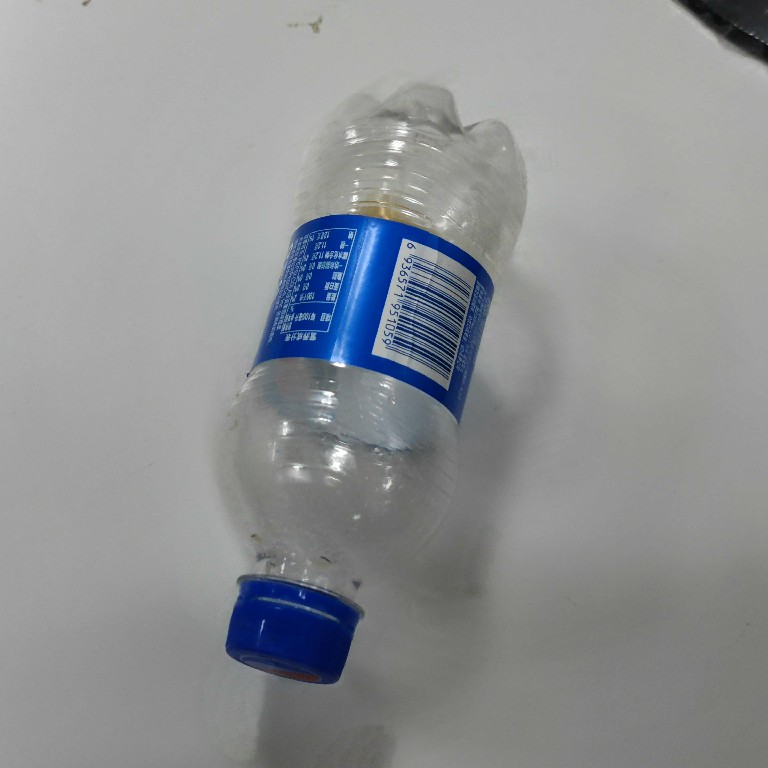bottle: (193, 78, 535, 691)
